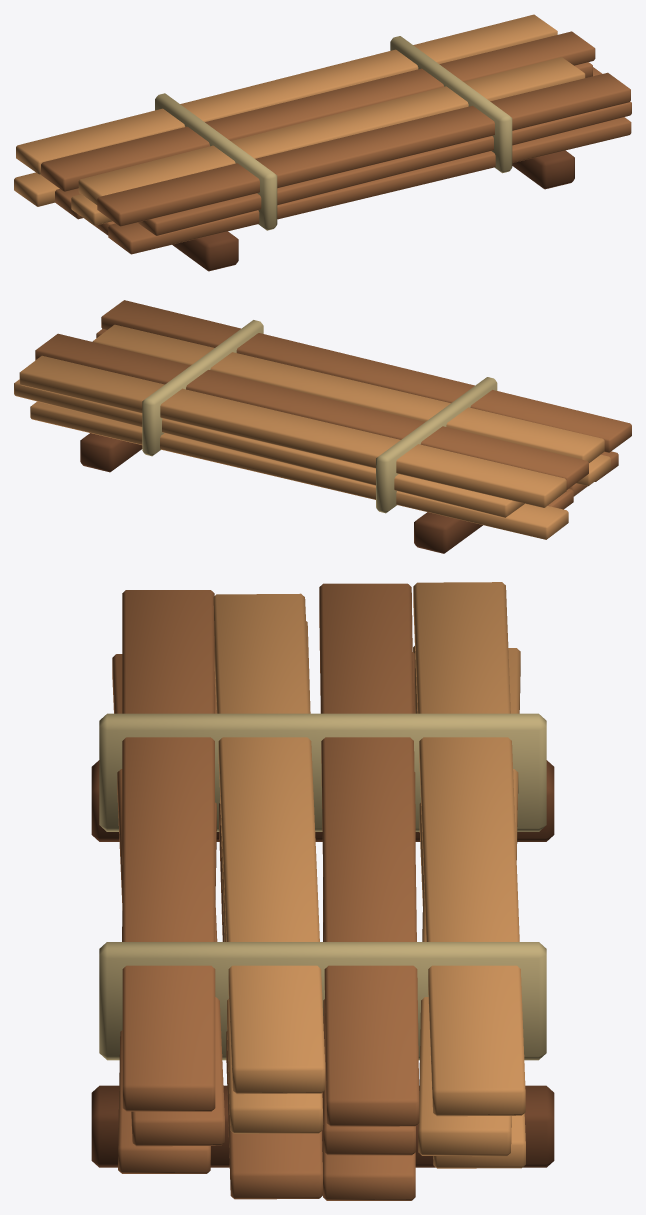
File: PlankBundle.fbx
3 renders of one model, top to bottom at view 1: azimuth 30°, elevation 25°; view 2: azimuth 150°, elevation 25°; view 3: azimuth 270°, elevation 25°, orthographic. The views are drawn at different scales.
Visible parts, largest first — view 1: PlankBundle; view 2: PlankBundle; view 3: PlankBundle.
Boxes of the visible parts, <box> form: PlankBundle: <box>14,14,631,271</box>; PlankBundle: <box>14,300,631,553</box>; PlankBundle: <box>91,582,554,1200</box>.
Bounding box in the file's own units: 1.64 × 0.23 × 0.6.
Materials: 1 (1 with a texture image).
